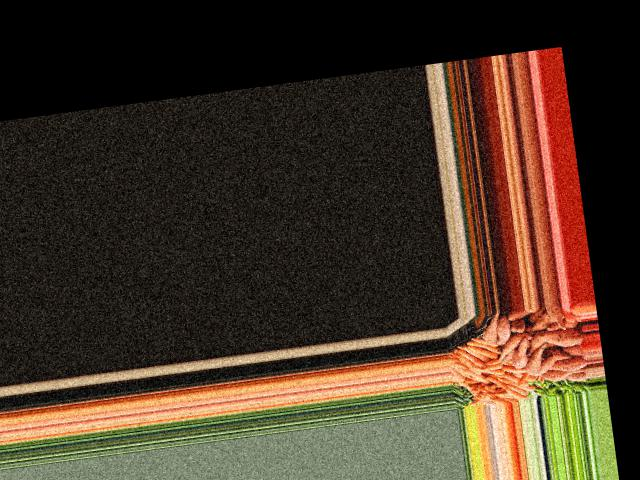carrot: (467, 342, 499, 361)
